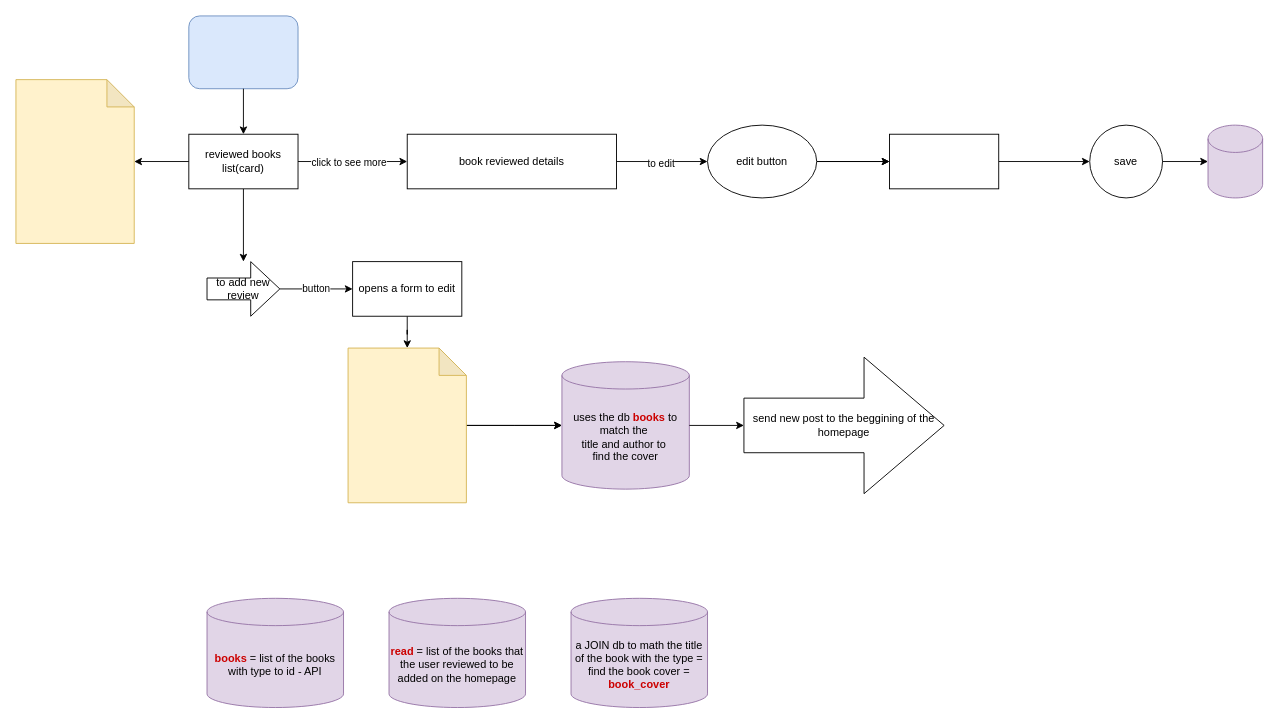
Image size: 1279x723. Some labels were removed from this diagram. The shapes that lost their labels are listed below. From the top down, each one's centre as x and y in pixels, then its label:
At (243,52): "homepage".
At (74,161): "book cover image title author review date grade".
At (944,161): "opens a form with the text to edit".
At (1235,161): "send to bd read".
At (406,425): "Title name author review date grade".
